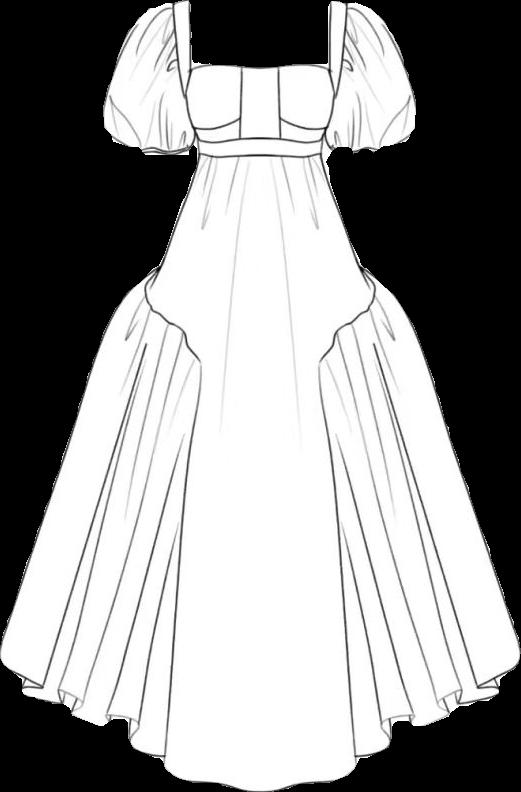Bodice: (172, 0, 346, 158)
Hemline: (0, 653, 520, 791)
Neckline: (182, 0, 336, 74)
Skirt: (0, 155, 518, 789)
Sleeve: (103, 2, 195, 154), (324, 2, 415, 149)
Sleeveline: (164, 1, 193, 119), (329, 3, 355, 104)
Waistline: (141, 264, 205, 764), (315, 276, 380, 768), (196, 147, 327, 162)
